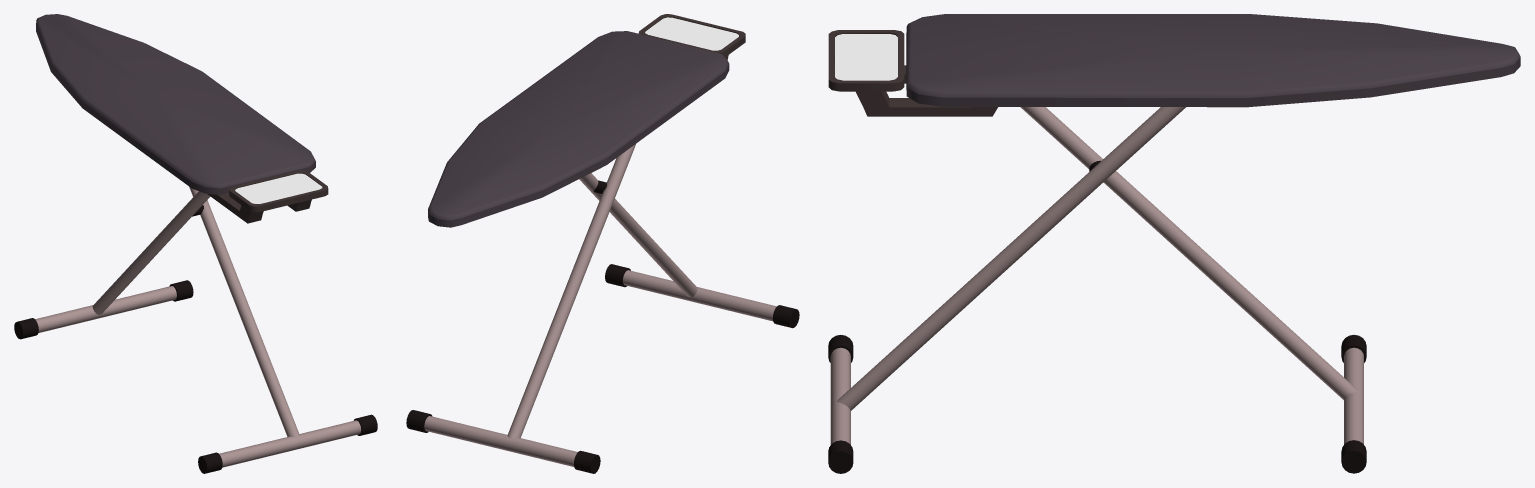
3 views of the same model, side by side, from view 1: azimuth 30°, elevation 25°; view 2: azimuth 150°, elevation 25°; view 3: azimuth 270°, elevation 25° (orthographic). The views are drawn at different scales.
Visible parts, largest first — view 1: Object_8, Object_16, Object_14, Object_10, Object_6, Object_12; view 2: Object_8, Object_16, Object_14, Object_10, Object_6; view 3: Object_8, Object_16, Object_10, Object_14, Object_12, Object_6.
Boxes of the visible parts, left/top/right/bottom form: Object_8: left=36, top=14, right=315, bottom=194; Object_16: left=35, top=186, right=361, bottom=467; Object_14: left=14, top=205, right=377, bottom=473; Object_10: left=235, top=173, right=322, bottom=203; Object_6: left=229, top=170, right=328, bottom=212; Object_12: left=207, top=193, right=311, bottom=223; Object_8: left=428, top=31, right=729, bottom=227; Object_16: left=424, top=144, right=776, bottom=466; Object_14: left=406, top=180, right=799, bottom=473; Object_10: left=645, top=17, right=738, bottom=50; Object_6: left=638, top=14, right=745, bottom=57; Object_8: left=906, top=14, right=1520, bottom=107; Object_16: left=830, top=107, right=1363, bottom=444; Object_10: left=835, top=34, right=897, bottom=80; Object_14: left=828, top=160, right=1366, bottom=473; Object_12: left=856, top=65, right=997, bottom=116; Object_6: left=828, top=30, right=904, bottom=91.
Bounding box in the file's own units: 54.5 × 79.5 × 137.
